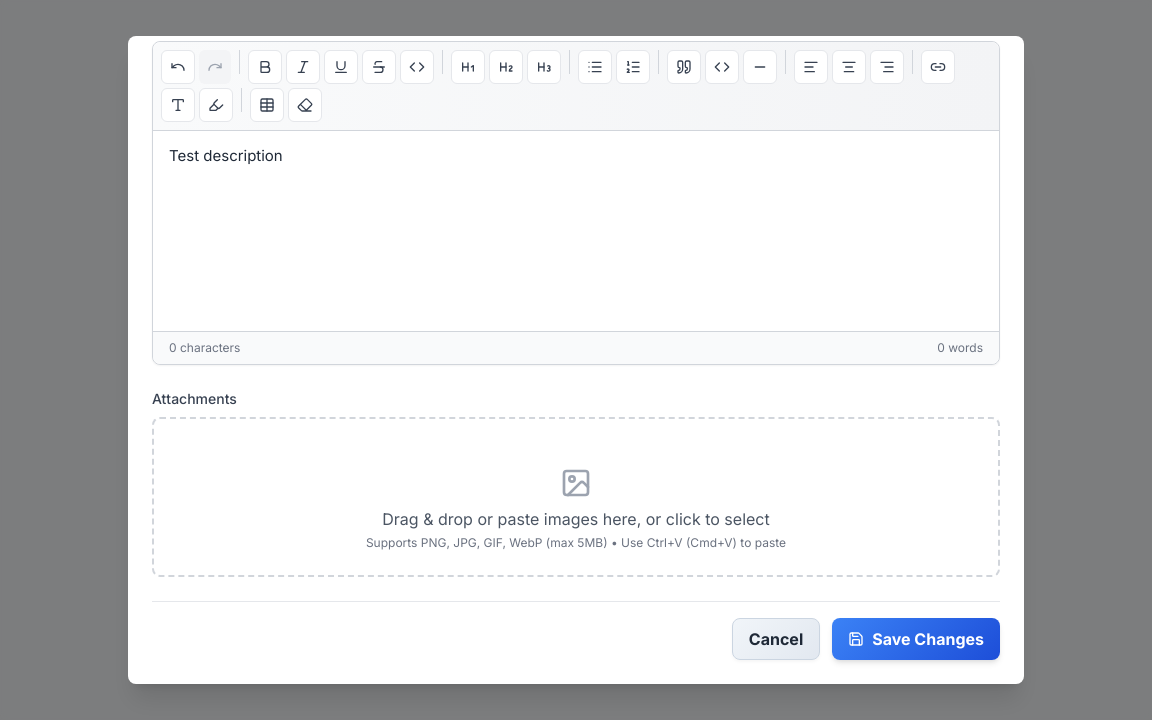
Scenario: TaskEditModal Component › Validation and Error Handling › should display validation errors when task is invalid
The width and height of the screenshot is (1152, 720).
(page scrolled)
Click the button "Save Changes": (916, 639) [832,618,1000,660]
(page scrolled)
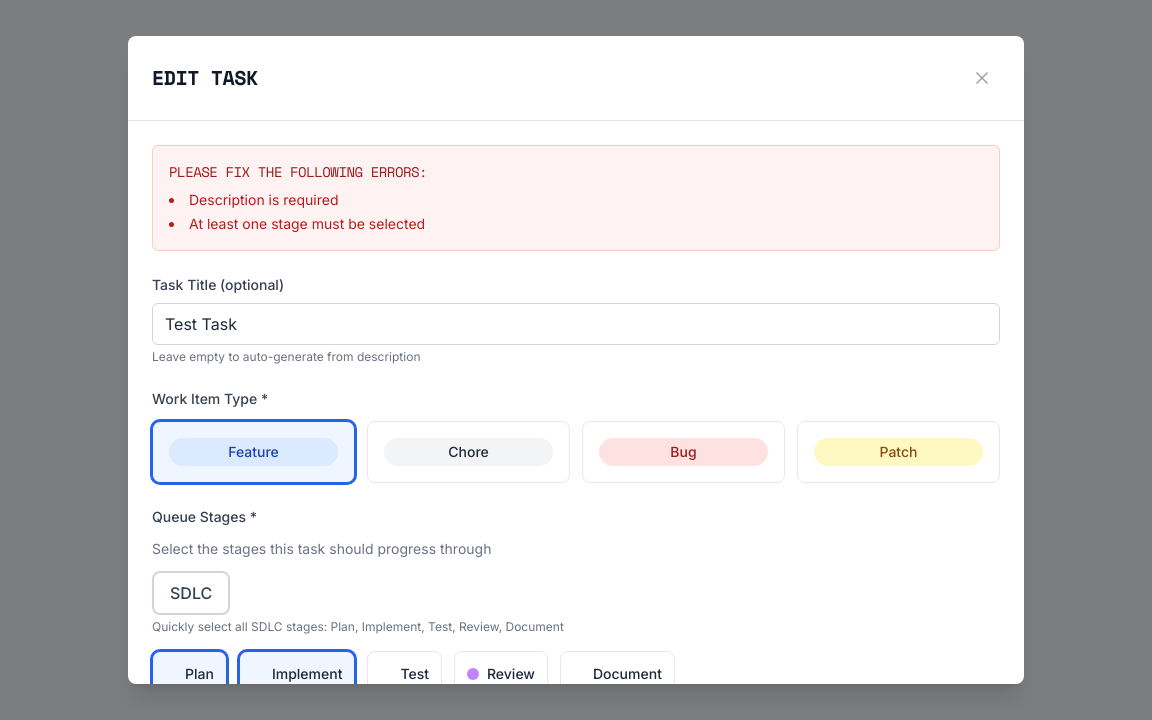
Check: the list item "Description is required" is shown, box [189,191,338,208]
Check: the list item "At least one stage must be selected" is shown, box [189,215,425,232]
